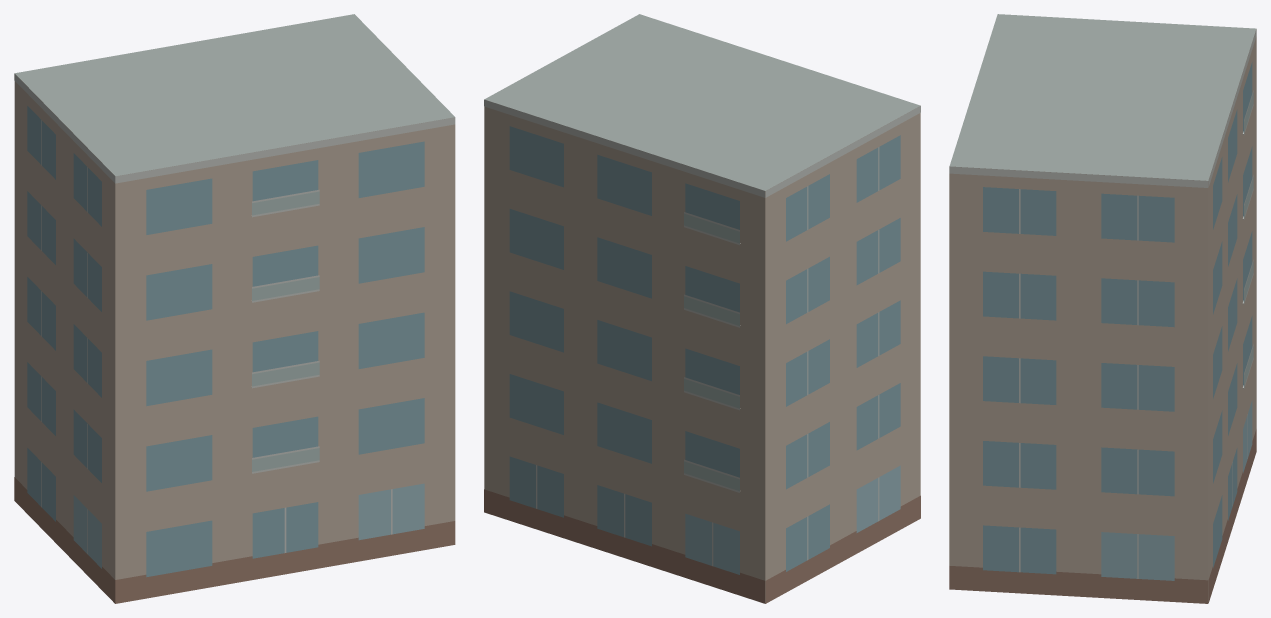
Rendered from survey-upis-32712267.glb.
3 views of the same model, side by side, from view 1: azimuth 30°, elevation 25°; view 2: azimuth 150°, elevation 25°; view 3: azimuth 270°, elevation 25° (orthographic). The views are drawn at different scales.
Parts seen in each view (by area): view 1: survey-upis-32712267.tmp; view 2: survey-upis-32712267.tmp; view 3: survey-upis-32712267.tmp.
Boxes of the visible parts, x1,y1,x2,y2 form: survey-upis-32712267.tmp: (14, 14, 455, 603); survey-upis-32712267.tmp: (484, 14, 920, 603); survey-upis-32712267.tmp: (949, 14, 1256, 603).
Bounding box in the file's own units: 12.2 × 14.4 × 9.49.
